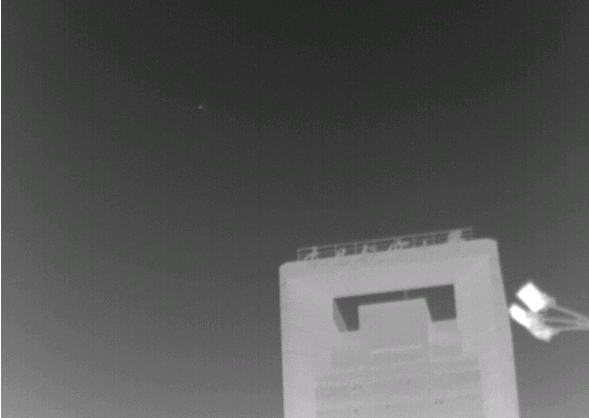dim target: (197, 105, 204, 110)
